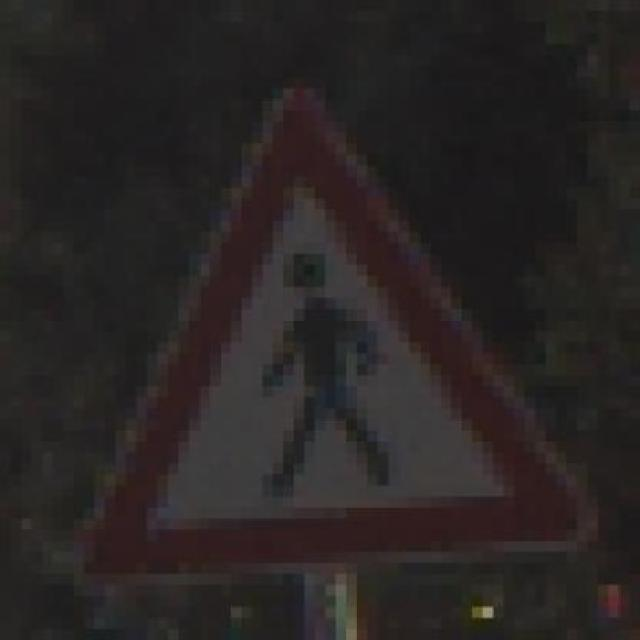Pedestrian Crossing: (62, 66, 608, 585)
